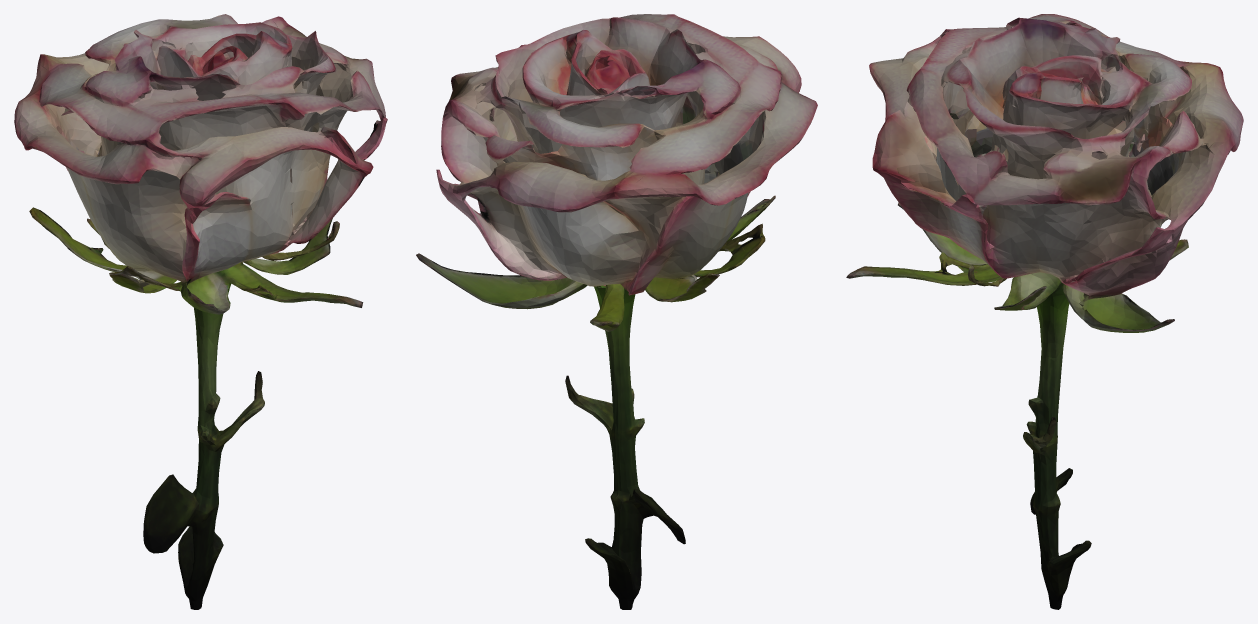
3 views of the same model, side by side, from view 1: azimuth 30°, elevation 25°; view 2: azimuth 150°, elevation 25°; view 3: azimuth 270°, elevation 25° (orthographic). The views are drawn at different scales.
Visible parts, largest first — view 1: world; view 2: world; view 3: world.
Boxes of the visible parts, bbox=[...] form: world: bbox=[14, 14, 387, 609]; world: bbox=[416, 14, 817, 609]; world: bbox=[846, 14, 1243, 609].
Size of the model in its own units: 0.6085 by 0.9883 by 0.6324.
Materials: 1 (1 with a texture image).
